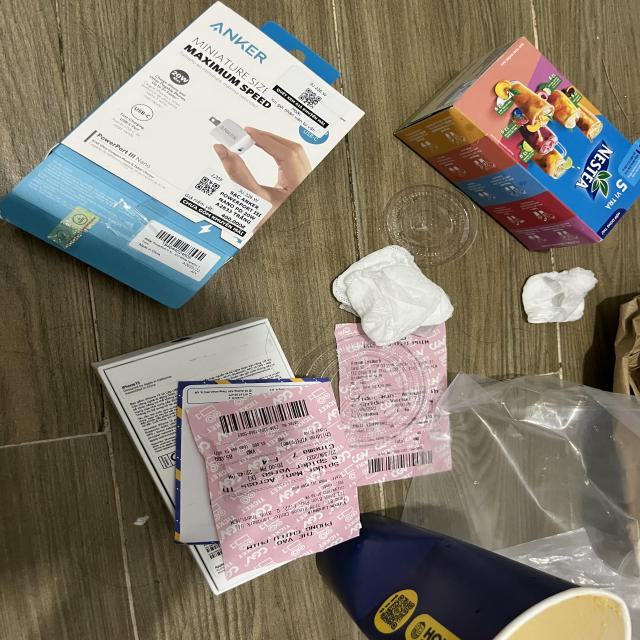bag: (402, 373, 640, 640)
cardboard box: (0, 0, 365, 310), (92, 318, 297, 596), (393, 36, 640, 252)
lid: (384, 186, 480, 264)
napkin: (332, 245, 455, 344), (521, 267, 595, 326)
paper: (178, 378, 360, 581), (336, 322, 454, 486)
plastic glass: (316, 513, 630, 640)
